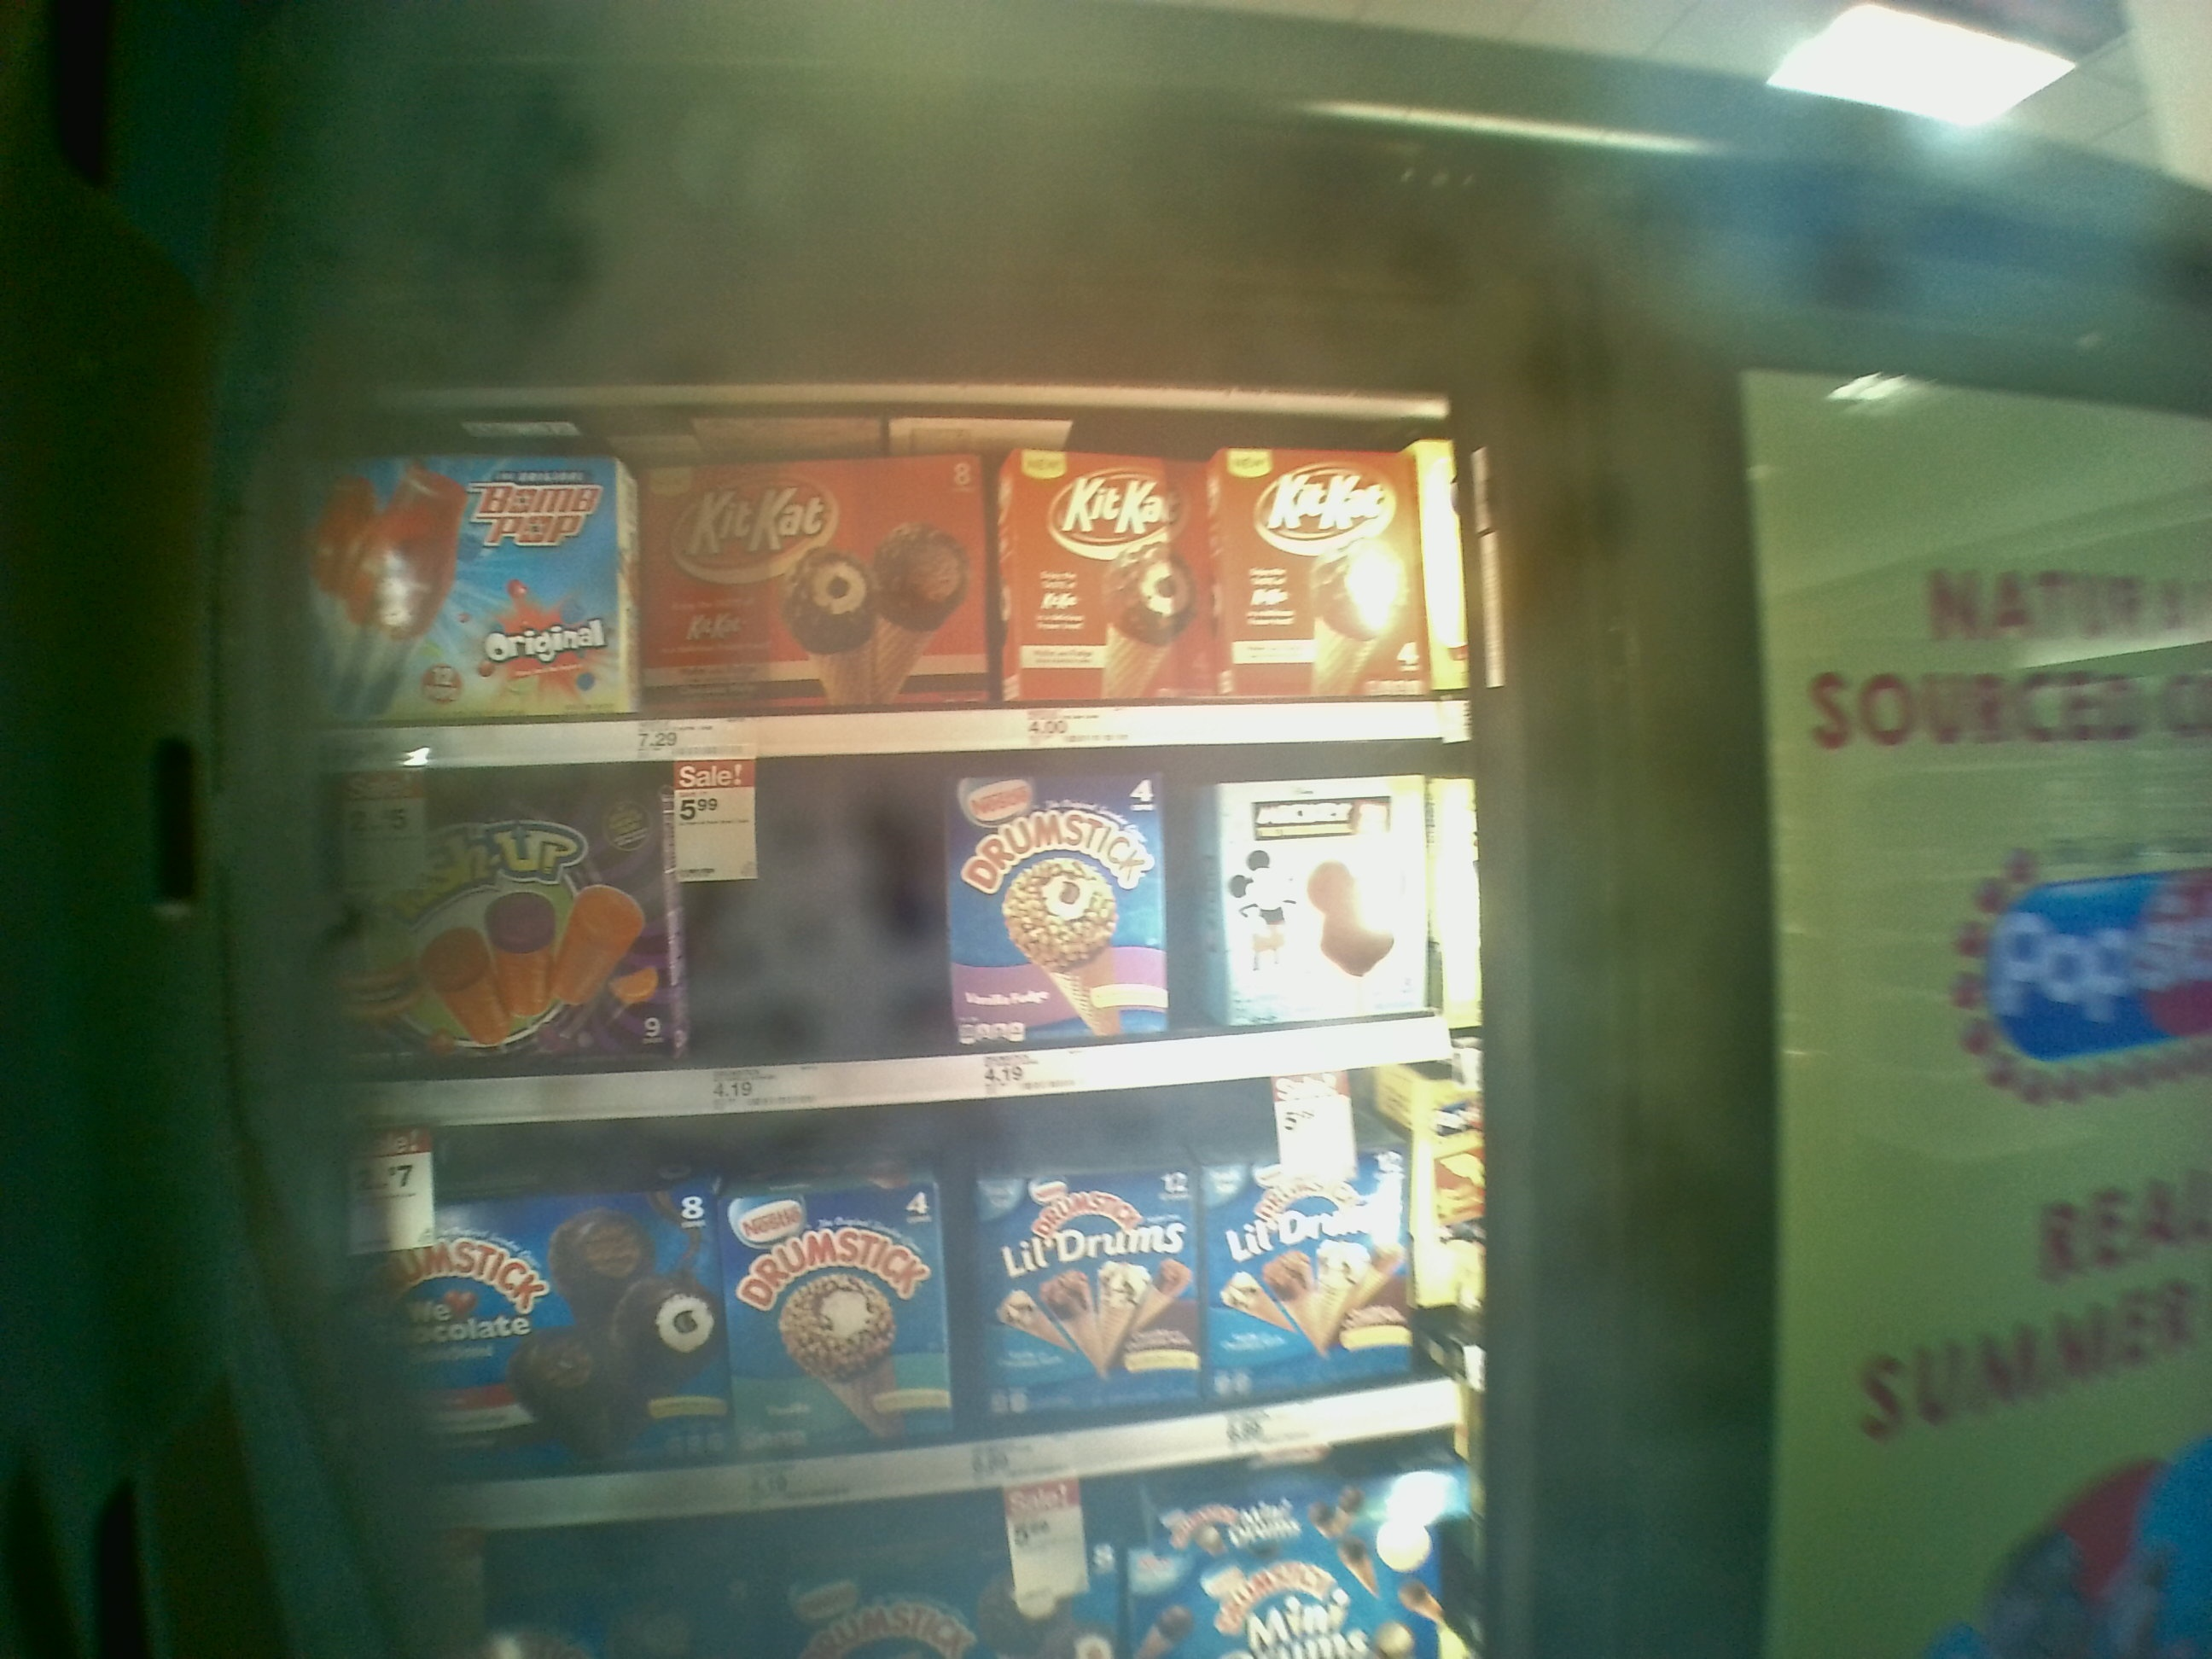shelf: (273, 737, 1489, 1122), (263, 385, 1498, 762)
